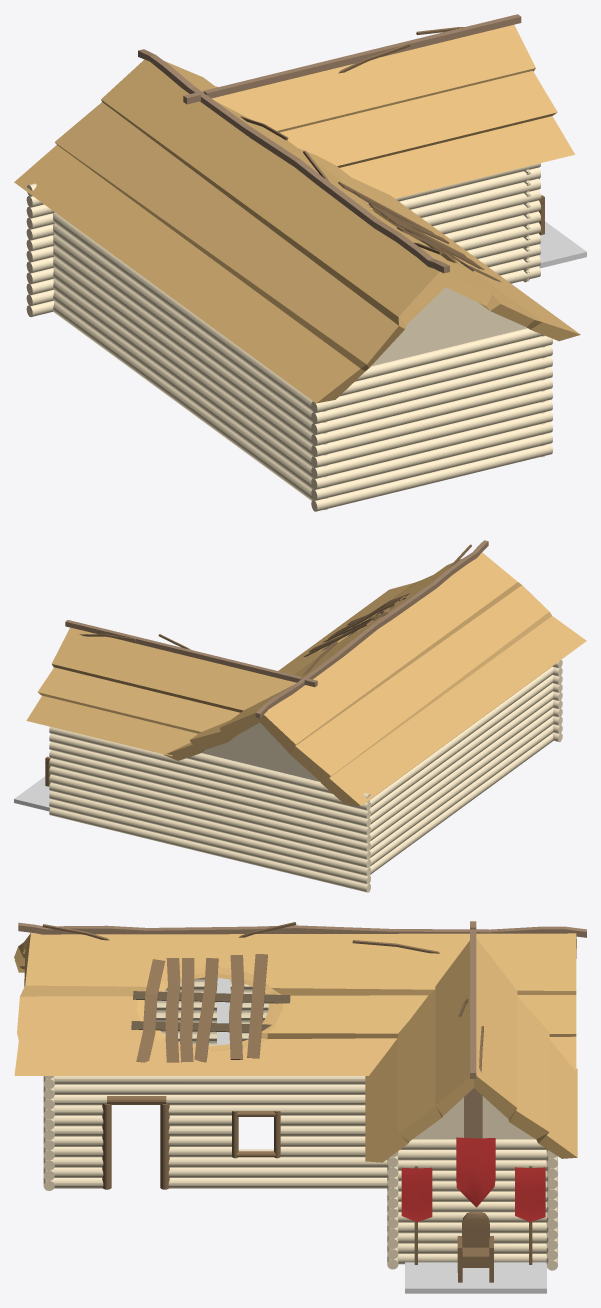
The model's file is chief house color .fbx.
3 renders of one model, top to bottom at view 1: azimuth 30°, elevation 25°; view 2: azimuth 150°, elevation 25°; view 3: azimuth 270°, elevation 25°, orthographic. The views are drawn at different scales.
Visible parts, largest first — view 1: Cube.005, Cube.007, Cylinder, Cube.003, Cylinder.002, Cube.002, Cube.011, Cube.012, Cylinder.001, Cube.030; view 2: Cube.005, Cylinder.001, Cube.007, Cube.003, Cube.004, Cube.011, Cube.012, Cylinder, Cube.030; view 3: Cube.005, Cube.001, Cube.007, Cube.008, Cube.030, Cube.011, Plane.001, Cube.006, Plane.002, Cube.042, Plane.003, Cube.010 (+17 smaller).
Boxes of the visible parts, x1=… form: Cube.005: x1=14, y1=59, x2=580, y2=403; Cube.007: x1=212, y1=25, x2=574, y2=198; Cylinder: x1=311, y1=328, x2=552, y2=511; Cube.003: x1=52, y1=212, x2=327, y2=510; Cylinder.002: x1=395, y1=163, x2=540, y2=283; Cube.002: x1=371, y1=287, x2=527, y2=366; Cube.011: x1=138, y1=49, x2=449, y2=273; Cube.012: x1=183, y1=14, x2=521, y2=104; Cylinder.001: x1=26, y1=183, x2=54, y2=316; Cube.030: x1=539, y1=221, x2=586, y2=268; Cube.005: x1=164, y1=552, x2=586, y2=805; Cylinder.001: x1=49, y1=726, x2=370, y2=892; Cube.007: x1=26, y1=627, x2=296, y2=756; Cube.003: x1=369, y1=666, x2=553, y2=875; Cube.004: x1=201, y1=722, x2=319, y2=781; Cube.011: x1=255, y1=540, x2=488, y2=718; Cube.012: x1=65, y1=620, x2=317, y2=687; Cylinder: x1=552, y1=660, x2=562, y2=742; Cube.030: x1=14, y1=776, x2=50, y2=811; Cube.005: x1=14, y1=932, x2=576, y2=1075; Cube.001: x1=53, y1=1076, x2=387, y2=1188; Cube.007: x1=365, y1=938, x2=577, y2=1162; Cube.008: x1=397, y1=1139, x2=547, y2=1264; Cube.030: x1=405, y1=1262, x2=546, y2=1293; Cube.011: x1=18, y1=922, x2=586, y2=937; Plane.001: x1=456, y1=1137, x2=495, y2=1207; Cube.006: x1=413, y1=1096, x2=535, y2=1139; Plane.002: x1=401, y1=1167, x2=432, y2=1221; Cube.042: x1=102, y1=1103, x2=169, y2=1189; Plane.003: x1=515, y1=1167, x2=545, y2=1222; Cube.010: x1=462, y1=1212, x2=489, y2=1267.
Size of the model in its own units: 3359 by 1569 by 3729.
